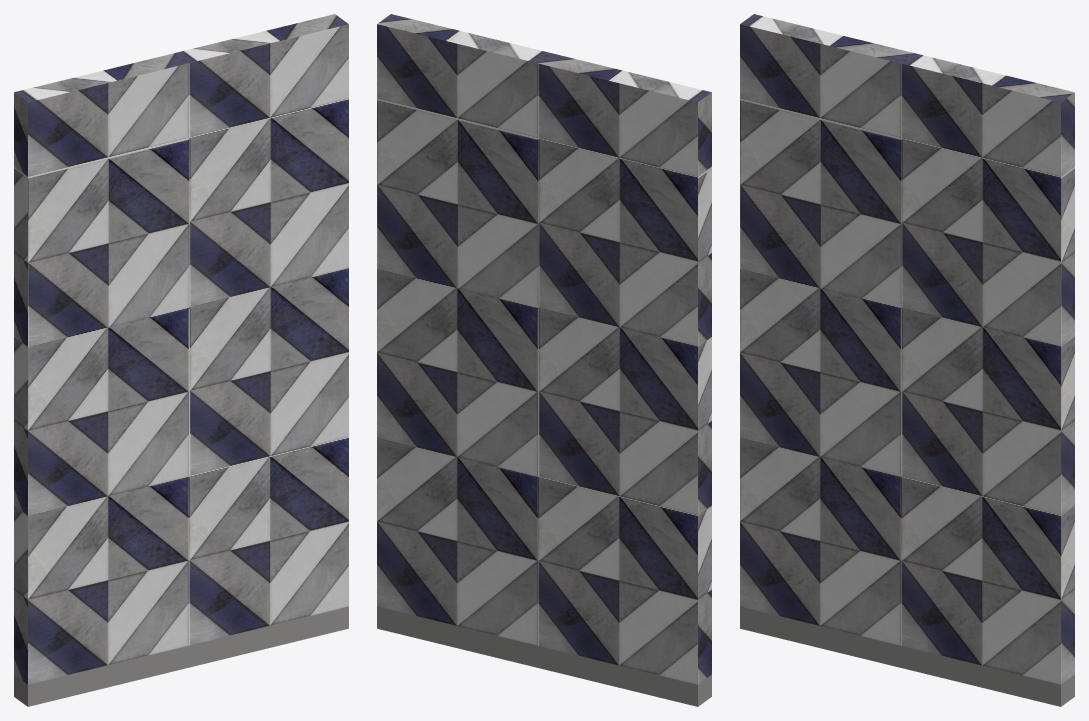
File: ARC0210060.fbx
3 views of the same model, side by side, from view 1: azimuth 30°, elevation 25°; view 2: azimuth 150°, elevation 25°; view 3: azimuth 330°, elevation 25° (orthographic).
Parts seen in each view (by area): view 1: smARC0210060; view 2: smARC0210060; view 3: smARC0210060.
Part boxes in pixels (x1,y1,x2,y2): smARC0210060: [14, 14, 348, 706]; smARC0210060: [377, 14, 711, 706]; smARC0210060: [740, 14, 1074, 706].
Bounding box in the file's own units: 182 × 328 × 13.67.
Materials: 1 (1 with a texture image).
